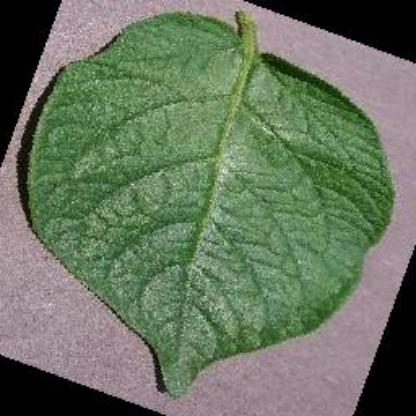Healthy-plant: (18, 14, 399, 407)
